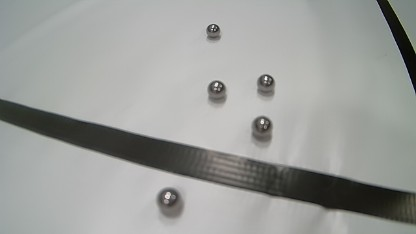ironball: (157, 187, 183, 217), (252, 116, 273, 139), (207, 80, 226, 99), (257, 74, 274, 92), (206, 24, 220, 38)
